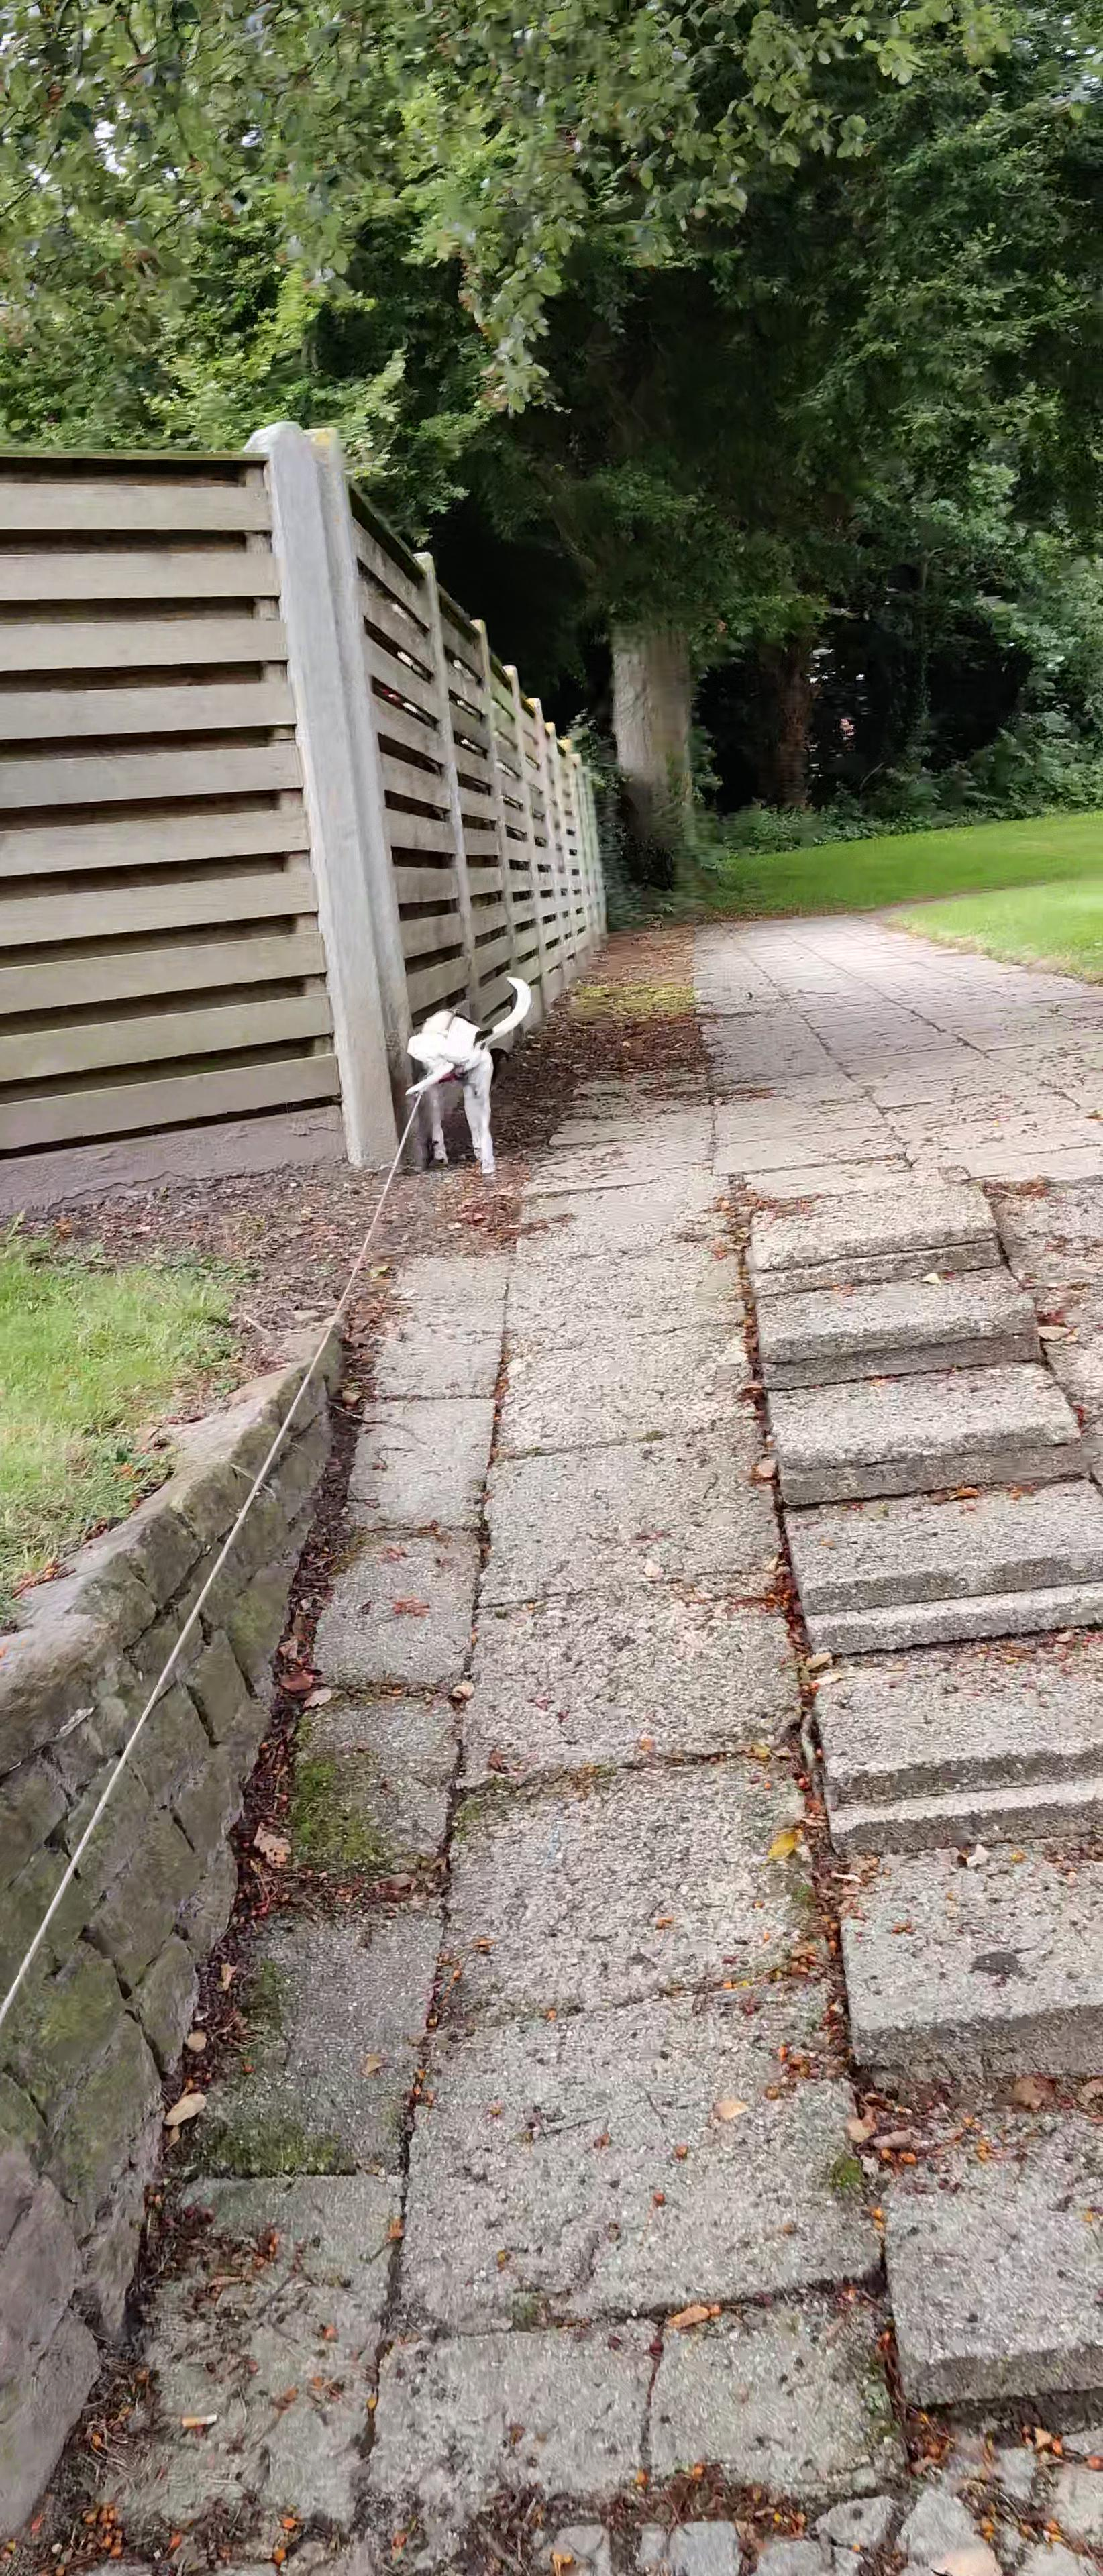Dog: (391, 963, 541, 1184)
